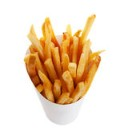frenchfries: (24, 12, 104, 102)
